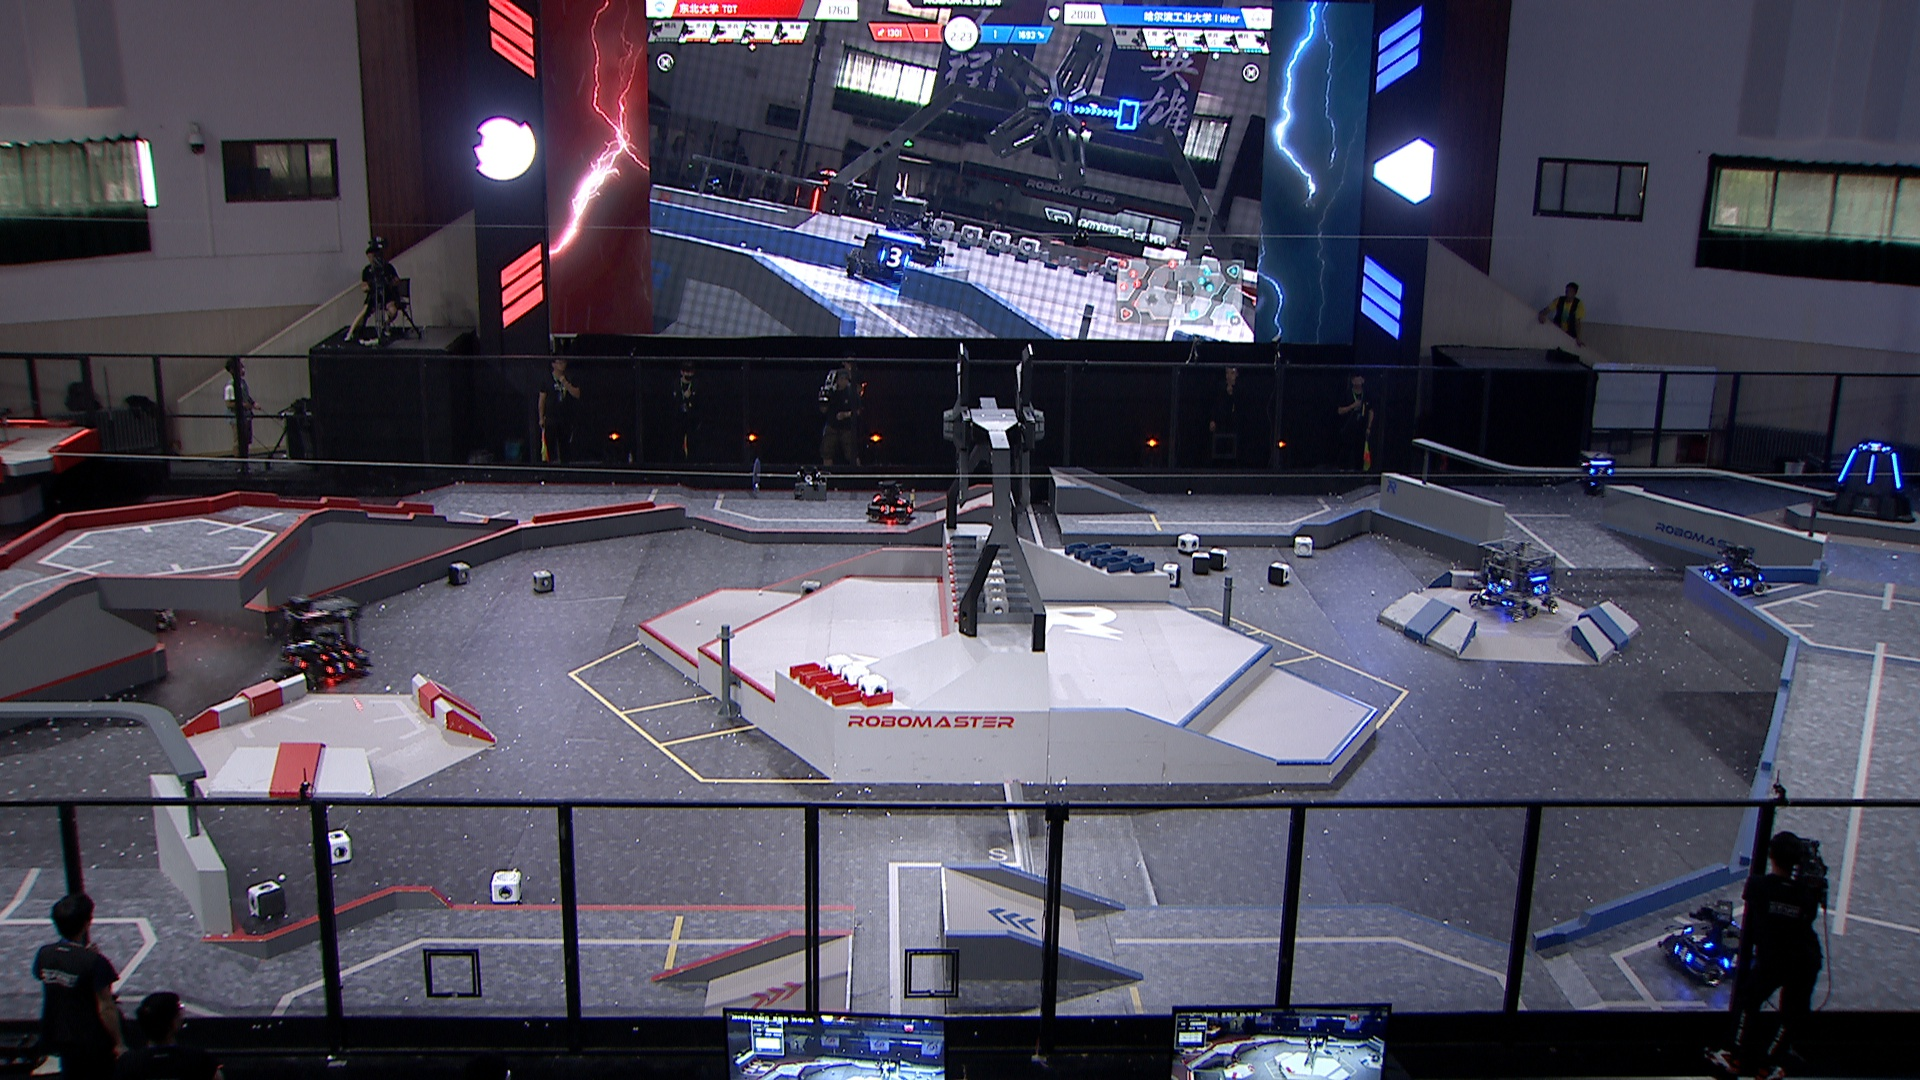armor: (1833, 444, 1859, 484), (1680, 924, 1717, 949), (1887, 451, 1903, 491), (1673, 940, 1697, 964), (320, 659, 353, 675), (316, 646, 352, 661), (1865, 454, 1880, 485), (1722, 949, 1746, 971), (1859, 440, 1892, 455), (286, 651, 311, 670), (1585, 465, 1614, 479), (876, 500, 895, 517), (1486, 580, 1505, 597), (1731, 575, 1753, 589), (1531, 583, 1551, 597), (1702, 567, 1718, 584), (1712, 560, 1731, 574), (891, 493, 910, 506)
base: (1809, 436, 1917, 524)
car: (272, 589, 377, 698), (1466, 537, 1571, 626), (1660, 895, 1753, 988), (1698, 543, 1768, 603), (864, 475, 918, 526)
ignore: (841, 193, 956, 291)
watcher: (1575, 447, 1619, 501)
